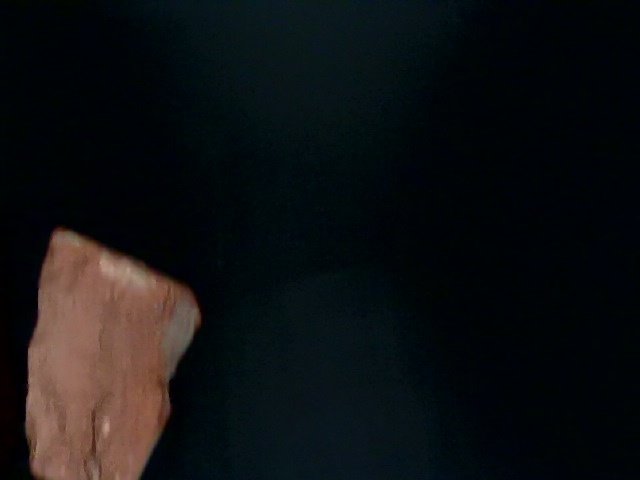KHSLJ: (1, 155, 284, 444)
